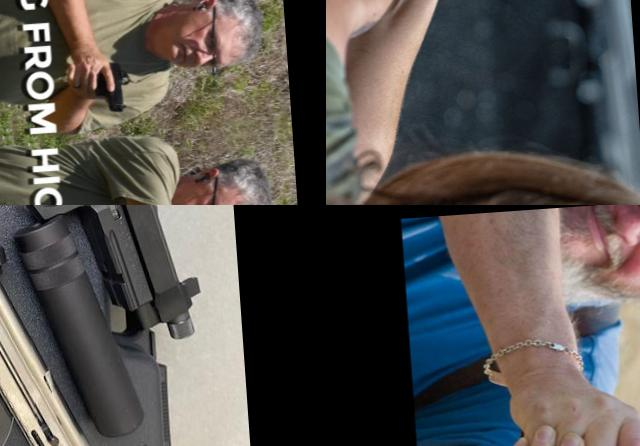handgun: (0, 205, 209, 373), (76, 59, 135, 117), (442, 0, 505, 53), (60, 0, 145, 15)
